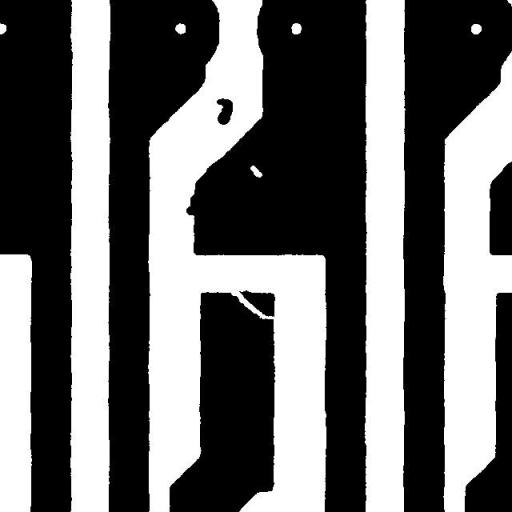copper: (209, 90, 240, 132)
open: (224, 282, 282, 326)
pin-hole: (242, 158, 270, 184)
spur: (178, 186, 210, 222)
